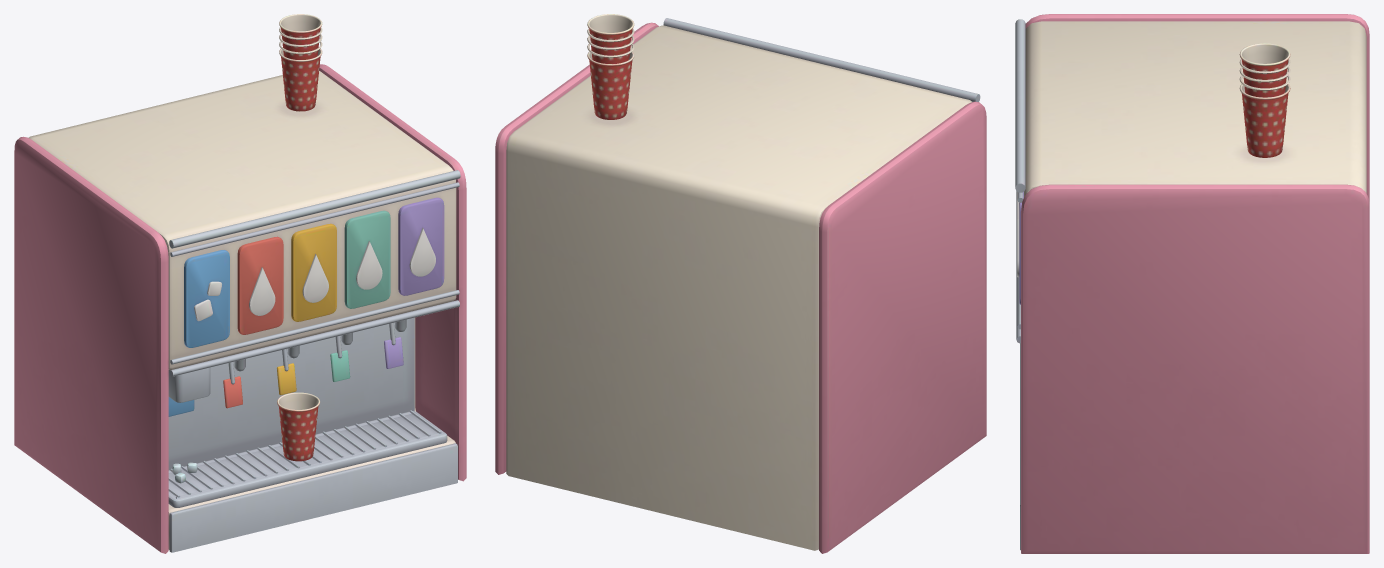
The model's file is g3-soda-fountain.glb.
3 renders of one model, left to right at view 1: azimuth 30°, elevation 25°; view 2: azimuth 150°, elevation 25°; view 3: azimuth 270°, elevation 25°, orthographic. The views are drawn at different scales.
Parts seen in each view (by area): view 1: soda-fountain_body; view 2: soda-fountain_body; view 3: soda-fountain_body.
Boxes of the visible parts, x1,y1,x2,y2 form: soda-fountain_body: (14, 14, 466, 553); soda-fountain_body: (495, 14, 986, 553); soda-fountain_body: (1015, 14, 1369, 553).
Size of the model in its own units: 0.72 by 0.8852 by 0.61.
Materials: 1 (1 with a texture image).
